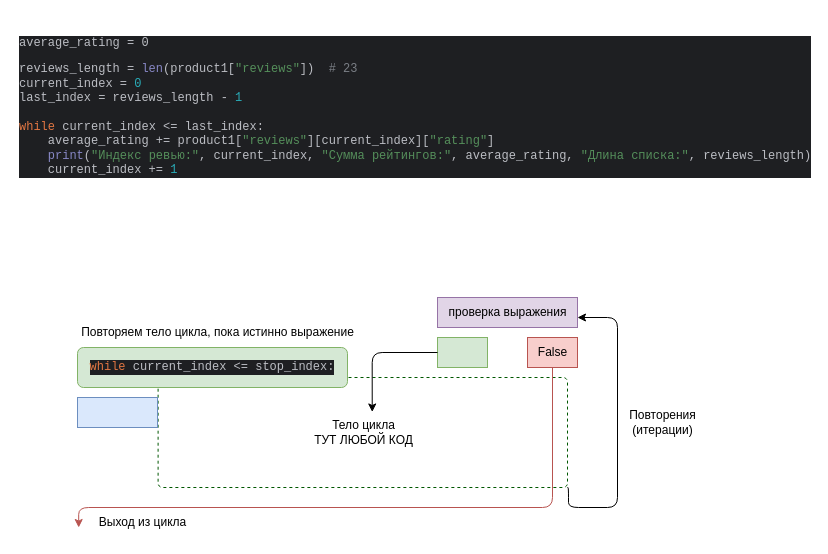
The diagram is 828 pixels wide and 554 high, and some of its shapes have lost their labels. The shapes that lost their labels are listed below. From the top down, each one's centre as x and y in pixels, then its label:
At (462,352): "True".
At (117,412): "4 пробела".
